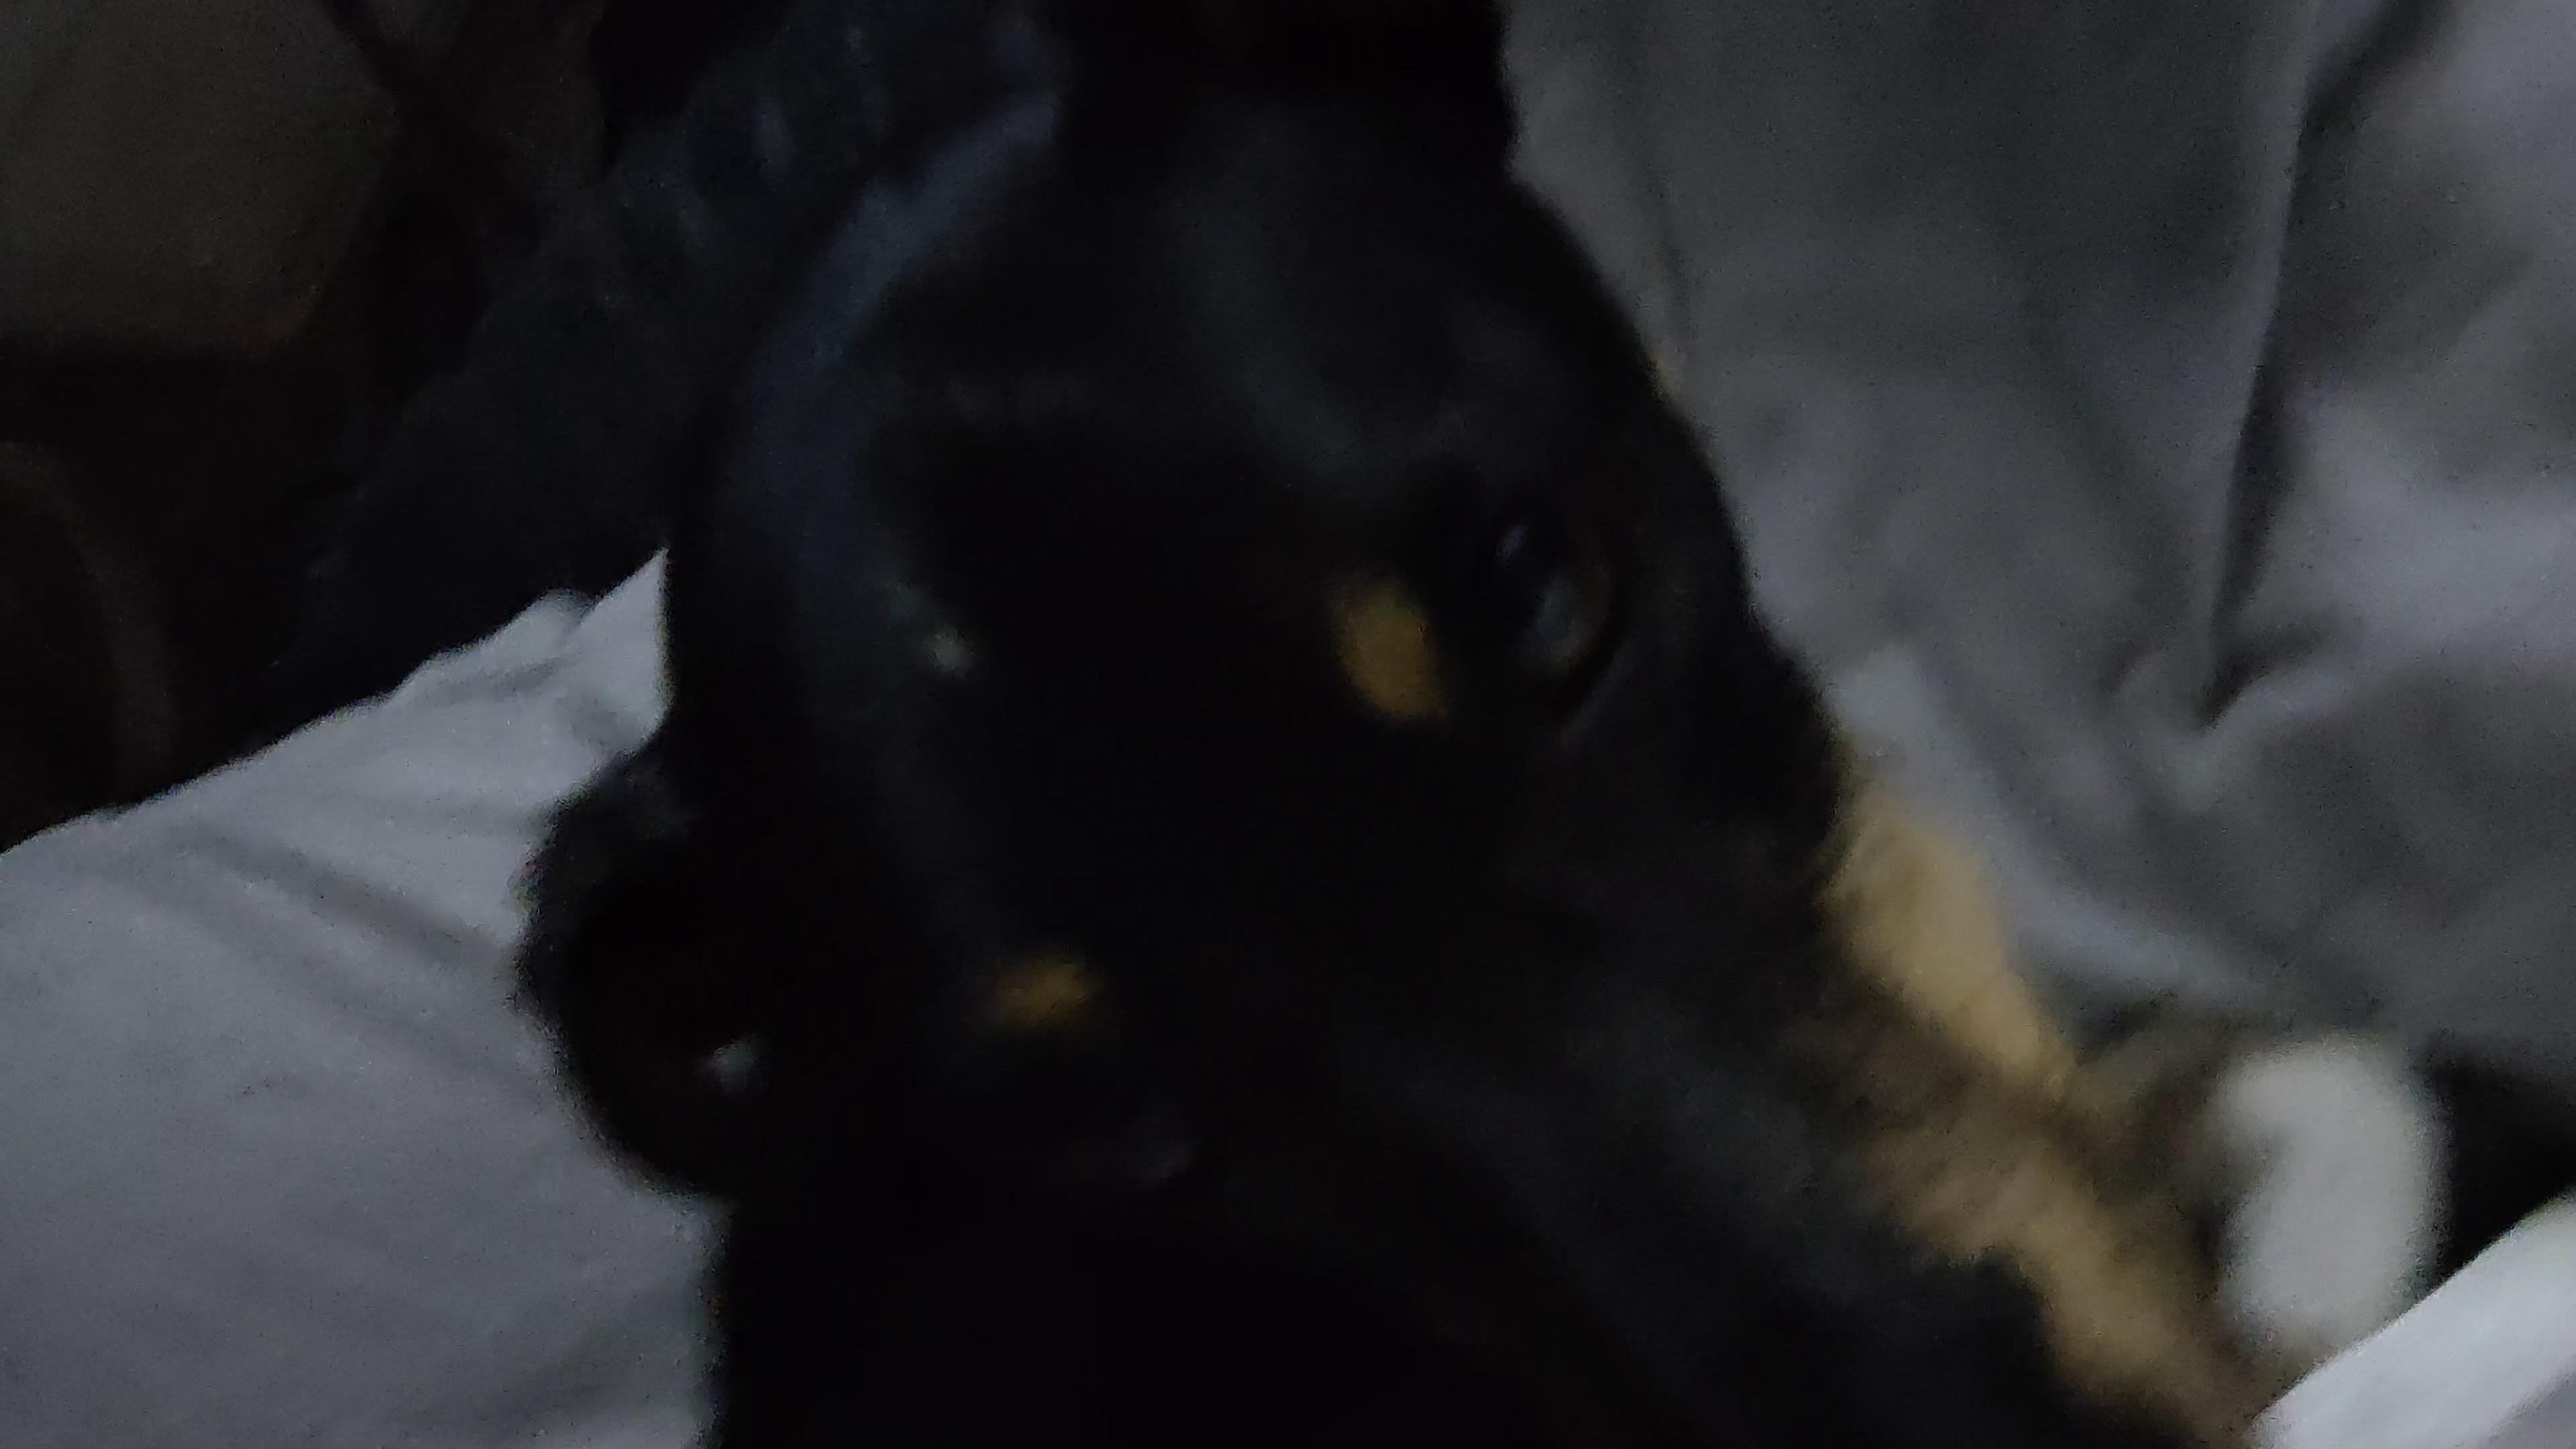Dog: (467, 0, 2576, 1449)
